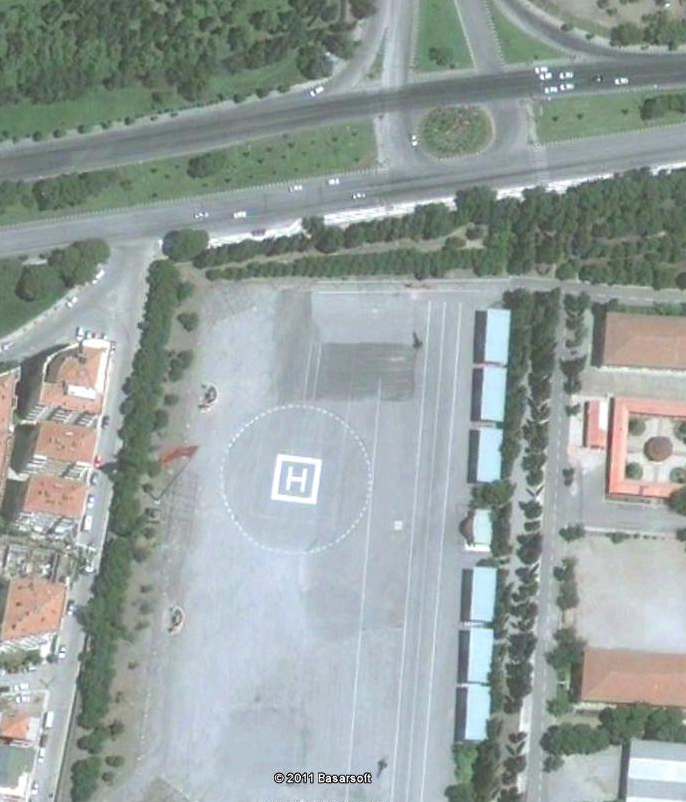heliport: (284, 463, 308, 494)
